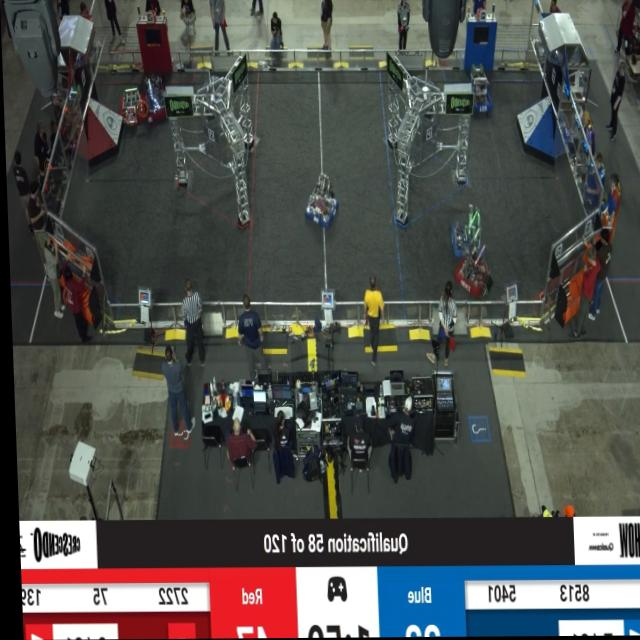Robot: (444, 194, 483, 260), (302, 170, 339, 231), (452, 242, 490, 301), (141, 64, 173, 129), (114, 77, 146, 137), (467, 68, 492, 121)
